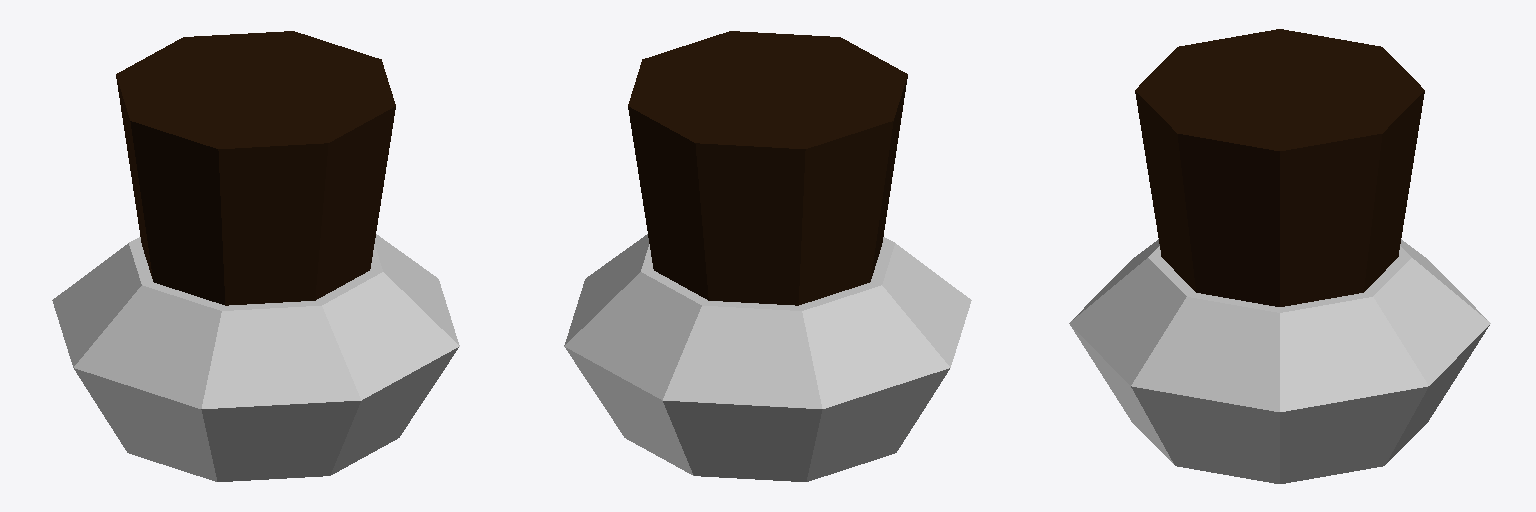
The model's file is flask.obj.
3 views of the same model, side by side, from view 1: azimuth 30°, elevation 25°; view 2: azimuth 150°, elevation 25°; view 3: azimuth 270°, elevation 25° (orthographic).
Visible parts, largest first — view 1: Cylinder; view 2: Cylinder; view 3: Cylinder.
Boxes of the visible parts, x1=… form: Cylinder: x1=52, y1=31, x2=459, y2=481; Cylinder: x1=564, y1=31, x2=971, y2=481; Cylinder: x1=1069, y1=29, x2=1490, y2=483.
Bounding box in the file's own units: 1.13 × 0.9813 × 1.13.